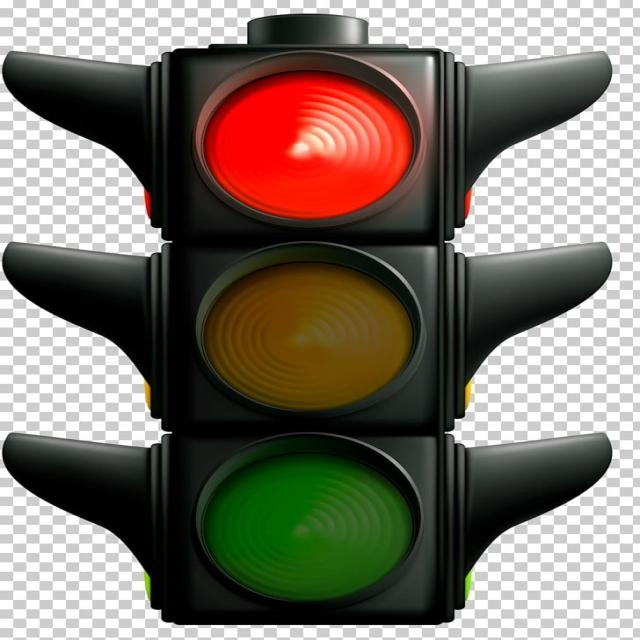red: (152, 38, 458, 240)
